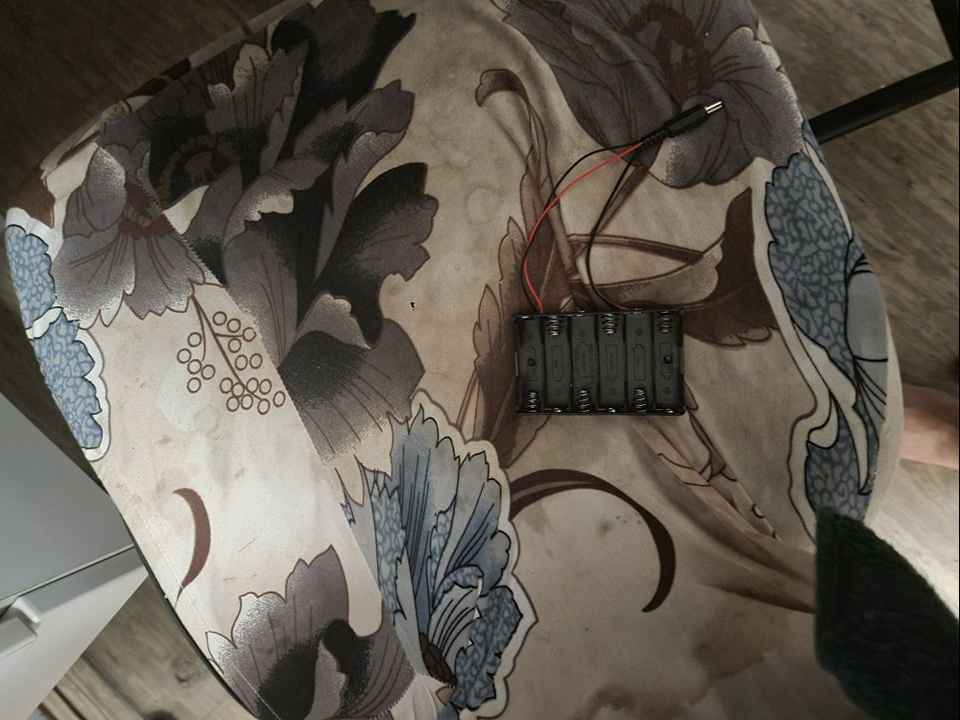BATTERY BOX: (507, 306, 692, 416)
